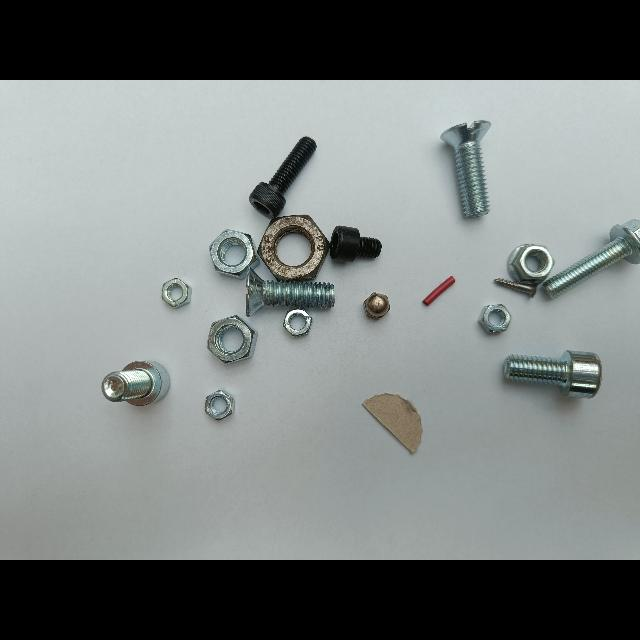bolt: (541, 219, 640, 298), (249, 136, 316, 219), (441, 120, 491, 218), (504, 351, 602, 398), (246, 268, 335, 317), (101, 361, 170, 406), (329, 226, 382, 262), (494, 278, 537, 298)
nuts: (257, 215, 330, 282), (209, 230, 260, 279), (207, 315, 257, 364), (507, 244, 554, 285), (478, 305, 511, 334), (205, 390, 235, 420), (162, 278, 192, 308), (283, 309, 312, 336), (364, 292, 390, 319)
